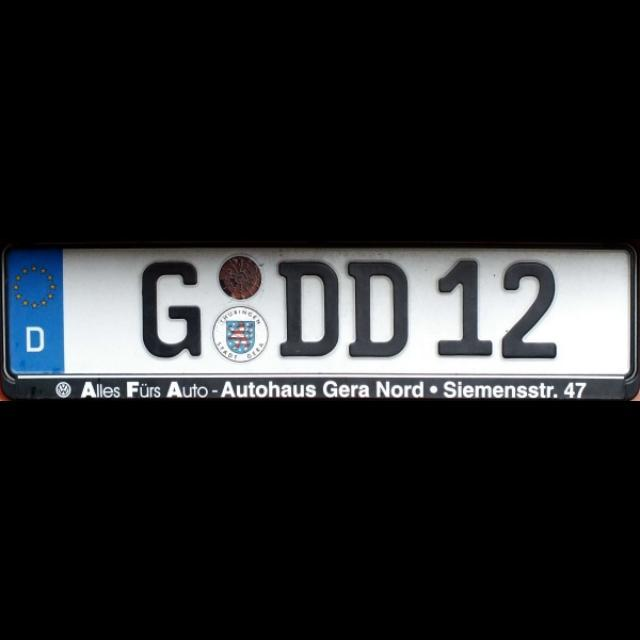license-plates: (0, 243, 640, 400)
